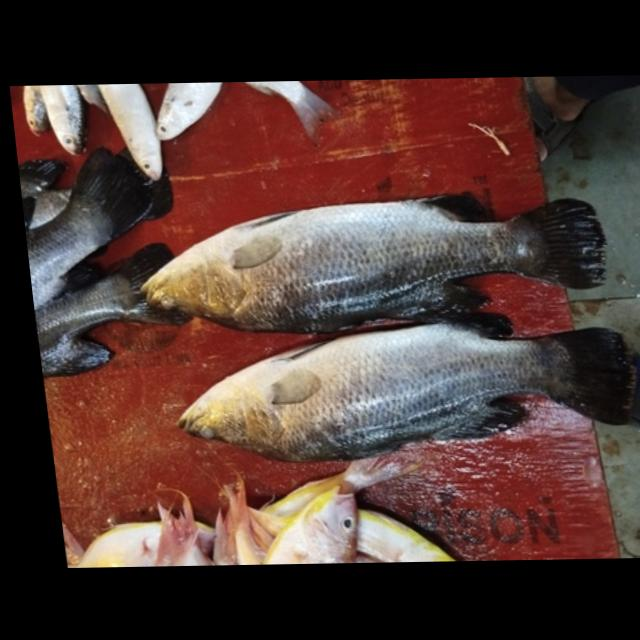Seabass: (161, 308, 640, 467), (126, 188, 612, 336)
